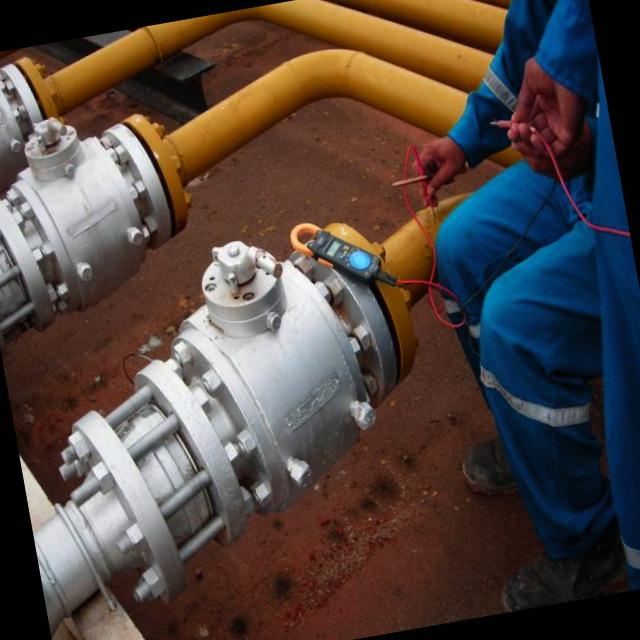gas: (165, 48, 465, 183)
